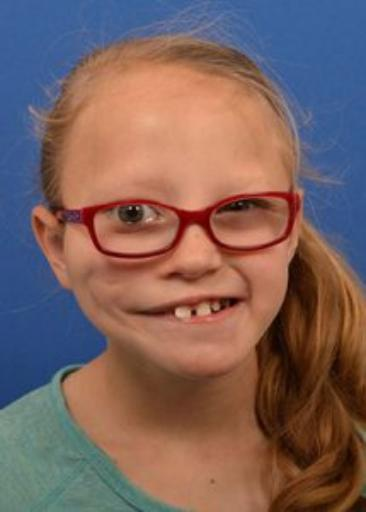left_eye: (213, 197, 265, 217)
left_lip_corner: (234, 291, 256, 310)
right_eye: (106, 202, 169, 228)
right_lip_corner: (125, 299, 155, 322)
